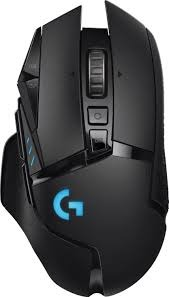mouse: (0, 4, 169, 297)
